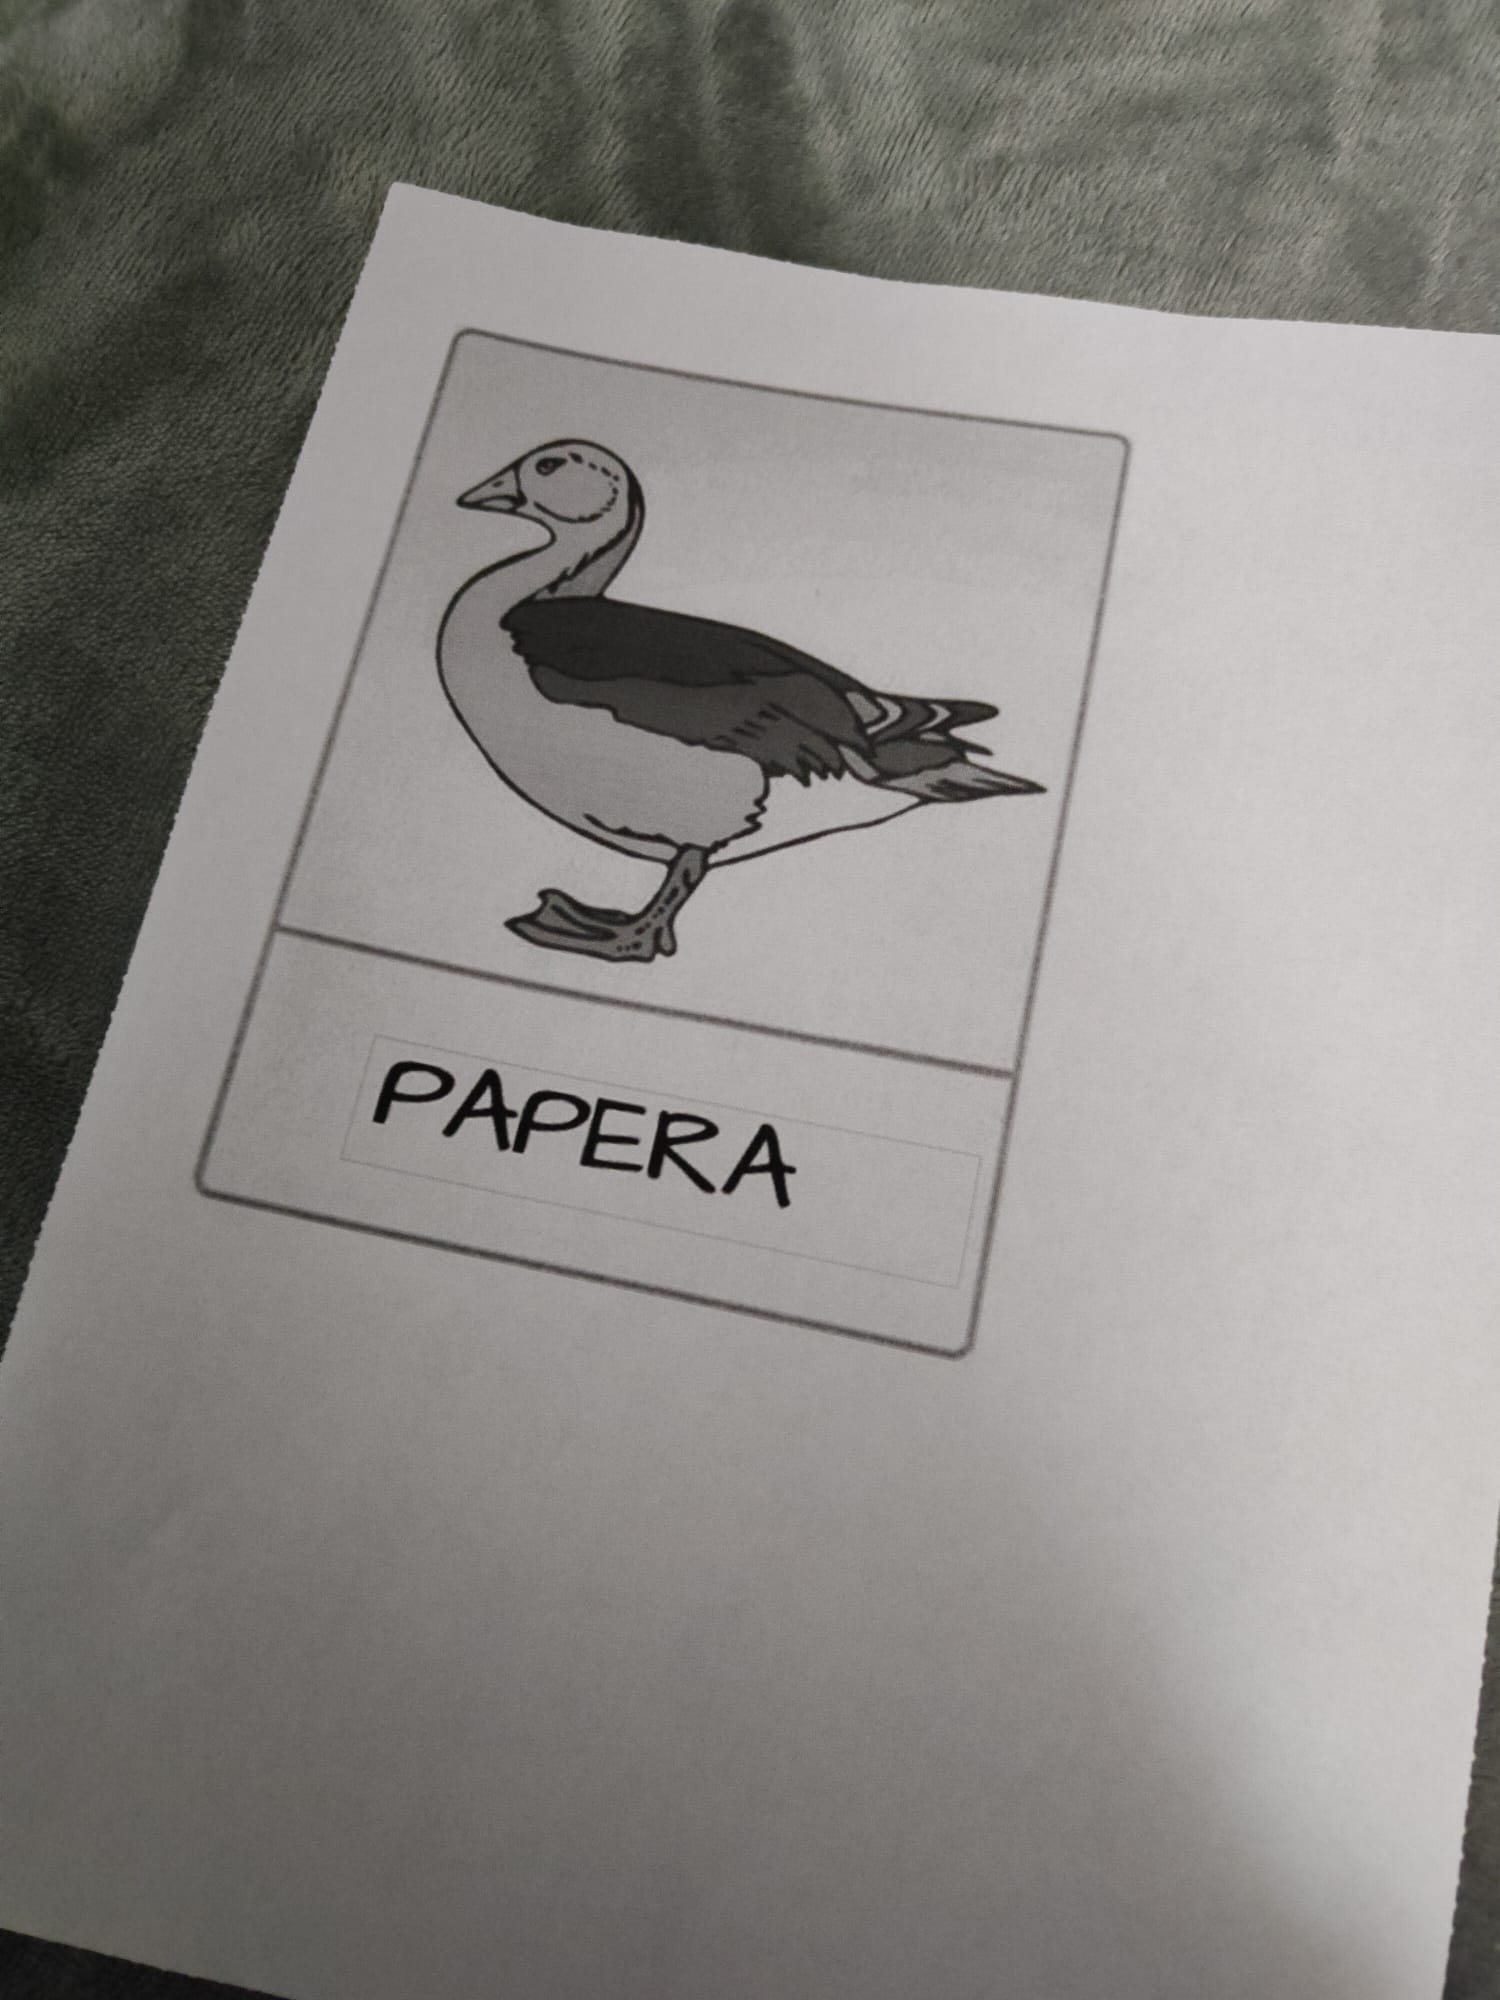papera: (325, 303, 1116, 1343)
